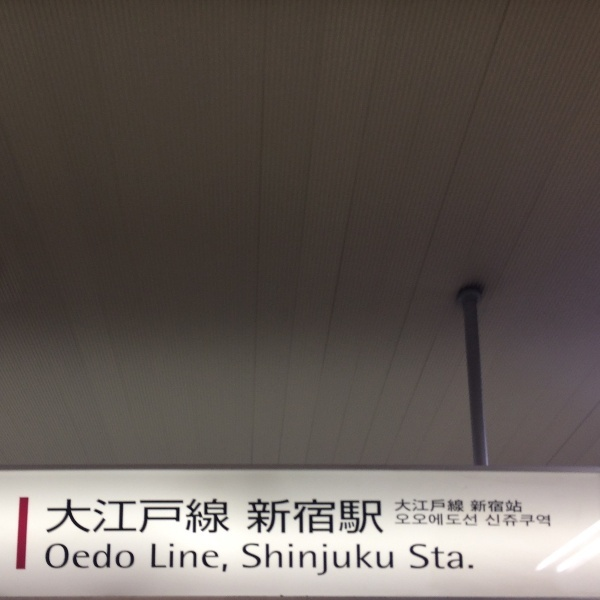text: (49, 499, 64, 536), (65, 499, 80, 536), (81, 499, 96, 536), (97, 499, 112, 536), (113, 499, 128, 536), (129, 499, 144, 536), (145, 499, 160, 536), (161, 499, 176, 536), (177, 499, 192, 536), (193, 499, 208, 536), (209, 499, 224, 536), (257, 498, 272, 535), (273, 498, 288, 535), (289, 498, 304, 535), (305, 498, 320, 535), (321, 498, 336, 535), (337, 498, 352, 535), (353, 498, 368, 535), (257, 544, 272, 579), (273, 544, 288, 579), (289, 544, 304, 579), (305, 544, 320, 579), (321, 544, 336, 579), (337, 544, 352, 579), (353, 544, 368, 579), (369, 544, 384, 579), (369, 498, 383, 535), (243, 544, 256, 579), (161, 543, 176, 572), (177, 543, 192, 572), (193, 543, 208, 572), (209, 543, 224, 572), (49, 543, 64, 569), (65, 543, 80, 569), (81, 543, 96, 569), (97, 543, 112, 569), (113, 543, 128, 569), (417, 545, 432, 570), (433, 545, 448, 570), (449, 545, 464, 570), (385, 544, 394, 579), (248, 498, 256, 535), (152, 543, 160, 572), (465, 545, 473, 570), (401, 499, 416, 512), (417, 499, 432, 512), (433, 499, 448, 512), (449, 499, 464, 512), (481, 499, 496, 512), (497, 499, 512, 512), (497, 514, 512, 527), (513, 514, 528, 527), (529, 514, 544, 527), (401, 514, 416, 526), (417, 514, 432, 526), (433, 514, 448, 526), (449, 514, 464, 526), (129, 543, 135, 569), (410, 545, 416, 570), (225, 499, 229, 536), (465, 514, 477, 526), (486, 514, 496, 527), (471, 499, 480, 512), (513, 499, 522, 512), (545, 514, 551, 527), (395, 499, 400, 512), (396, 514, 400, 526), (225, 543, 226, 572), (47, 543, 48, 569)
